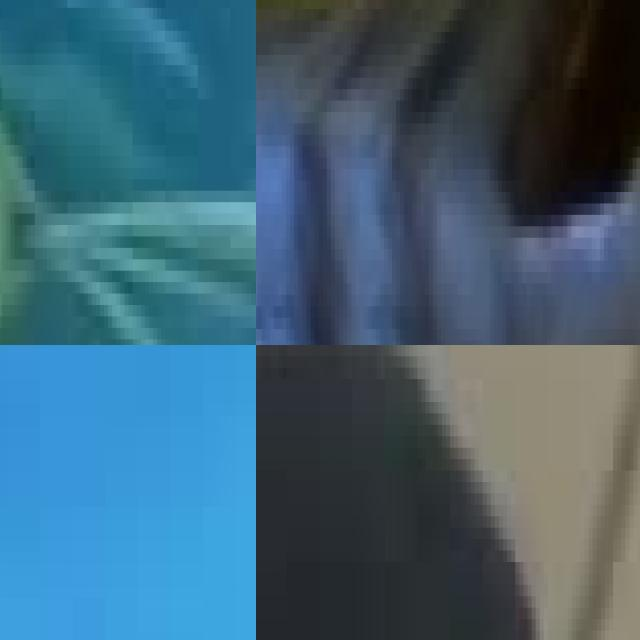fish: (256, 0, 640, 345), (0, 0, 256, 345)
